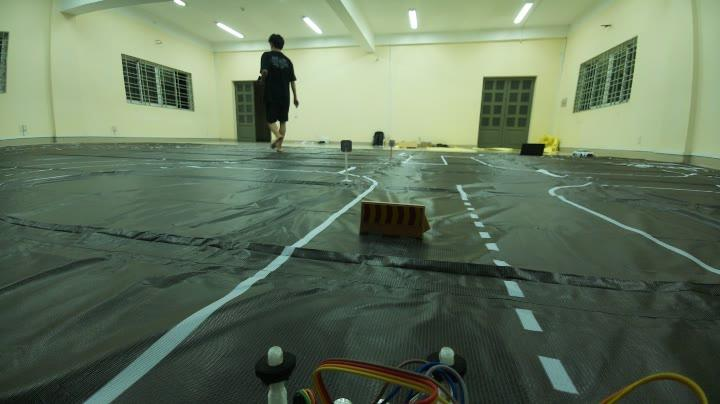roadblock: (352, 192, 439, 254)
